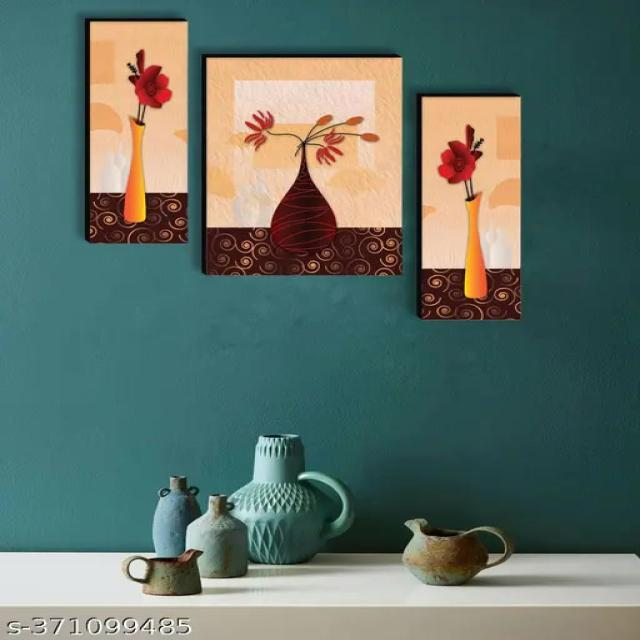painting: (203, 53, 401, 275), (421, 95, 522, 321), (87, 21, 188, 246)
